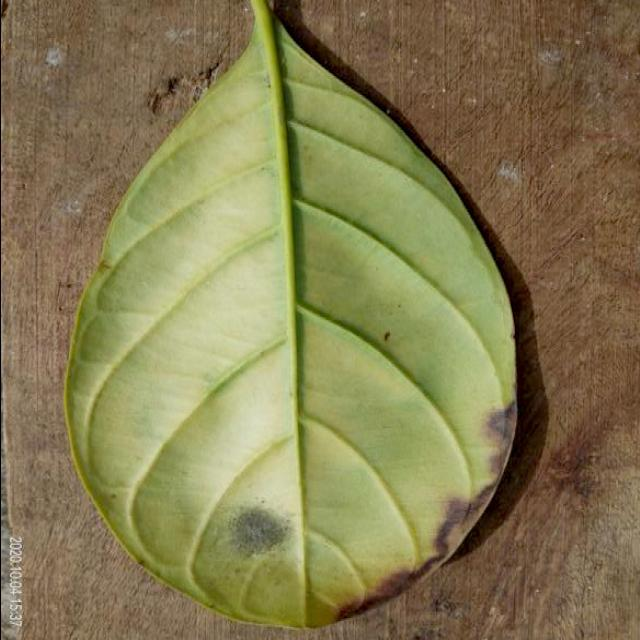leaf: (62, 0, 519, 630)
